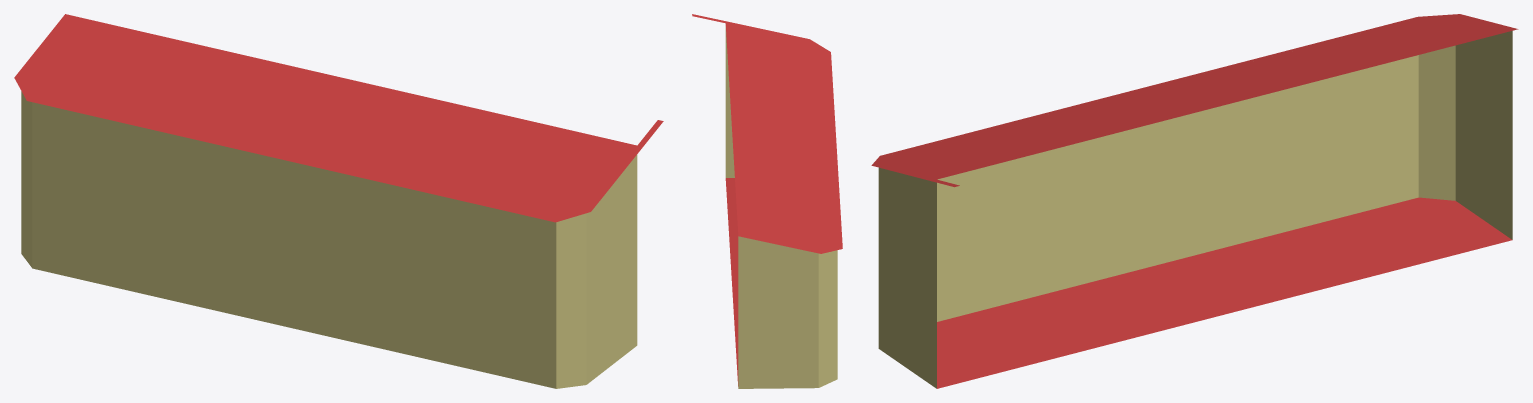
The picture shows the model from 3 angles, left to right: view 1: azimuth 30°, elevation 25°; view 2: azimuth 150°, elevation 25°; view 3: azimuth 270°, elevation 25°; orthographic projection. The views are drawn at different scales.
Size of the model in its own units: 17.96 by 23.13 by 8.66.
